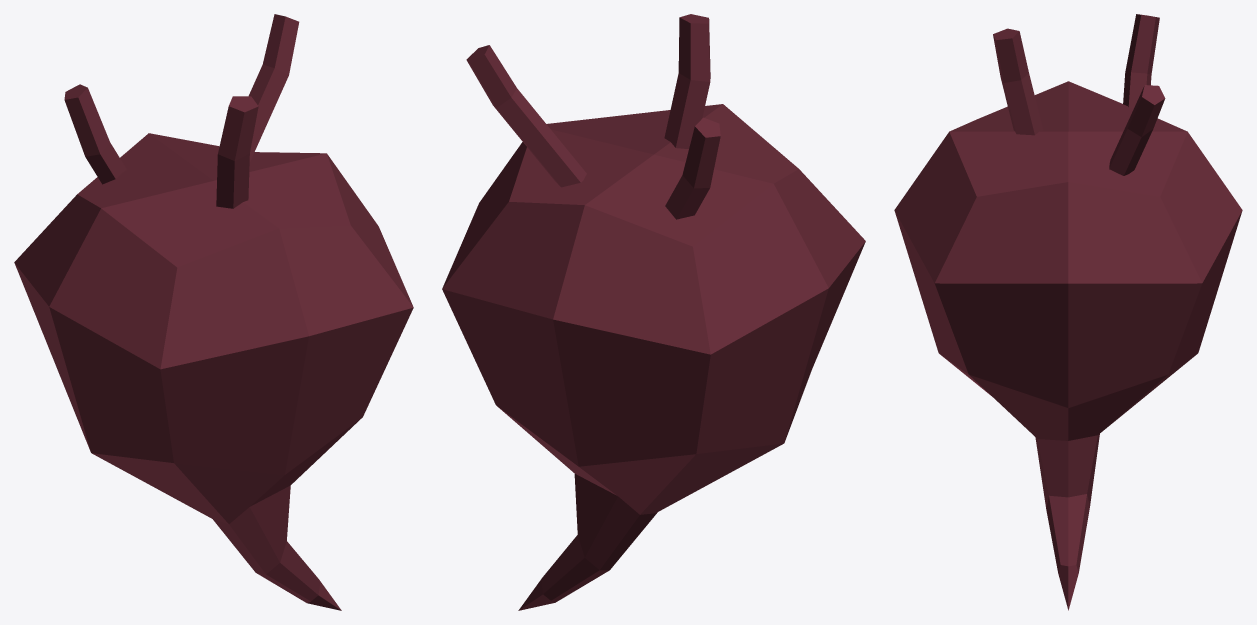
Rendered from Beet_Crop.glb.
3 renders of one model, left to right at view 1: azimuth 30°, elevation 25°; view 2: azimuth 150°, elevation 25°; view 3: azimuth 270°, elevation 25°, orthographic. The views are drawn at different scales.
Visible parts, largest first — view 1: Beet_Crop; view 2: Beet_Crop; view 3: Beet_Crop.
Boxes of the visible parts, x1=… form: Beet_Crop: x1=14, y1=14, x2=413, y2=610; Beet_Crop: x1=442, y1=14, x2=865, y2=610; Beet_Crop: x1=894, y1=14, x2=1242, y2=610.
Size of the model in its own units: 0.3156 by 0.5194 by 0.3156.
